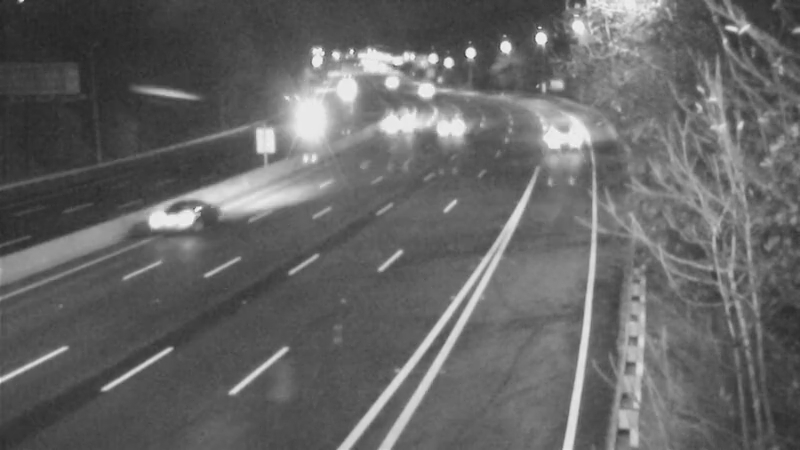vehicle: (144, 173, 224, 253), (365, 58, 415, 108), (401, 66, 451, 116), (532, 107, 582, 157), (423, 101, 473, 151), (373, 100, 423, 150), (270, 98, 320, 148), (321, 64, 371, 114)
